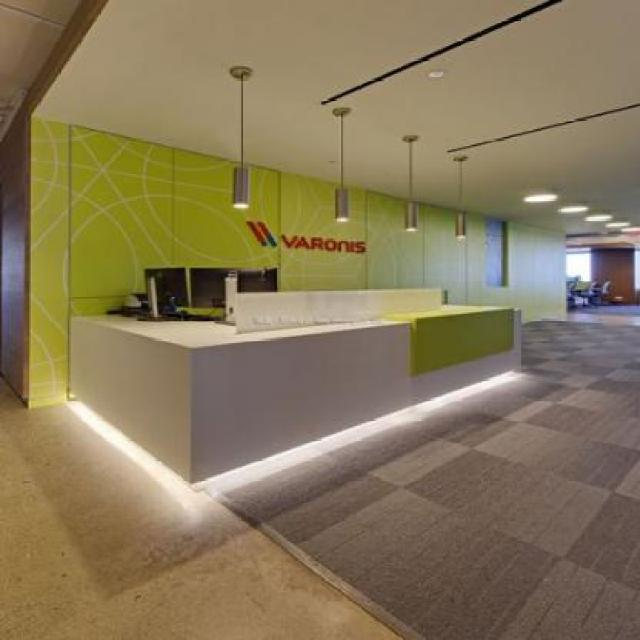frontdesk: (58, 288, 531, 515)
